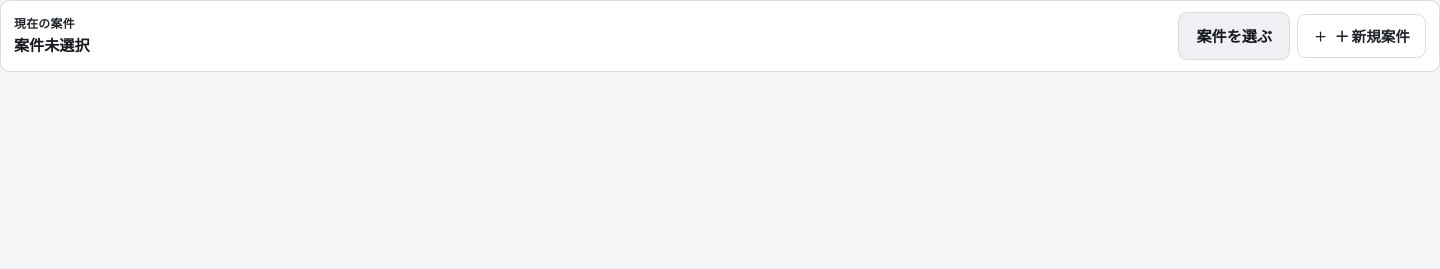
Test case: CaseSelector — 26-0001/26-0002/26-0003 each independently findable (spec #1, #5, #18) › finds, selects, and displays 26-0001 in the 〇（）／ format — distinct from 26-0002/26-0003
The width and height of the screenshot is (1440, 269).
Later steps or results of the test are not shown.
Click the button "案件を選ぶ".
click(1234, 36)  # box [1178, 12, 1290, 60]
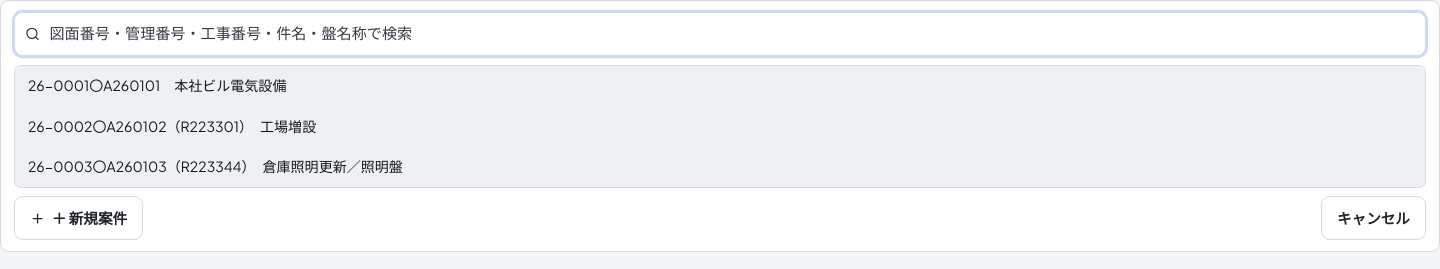
Type "26-0001" into the field with placeholder "図面番号・管理番号・工事番号・件名・盤名称で検索".
click(720, 34); type("26-0001")  # box [14, 12, 1426, 56]
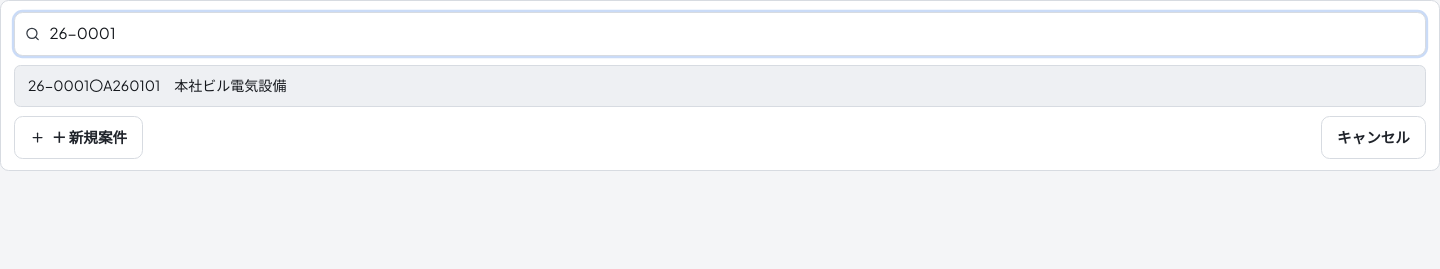
Now the button "26-0002" is gone
Now the button "26-0003" is gone
